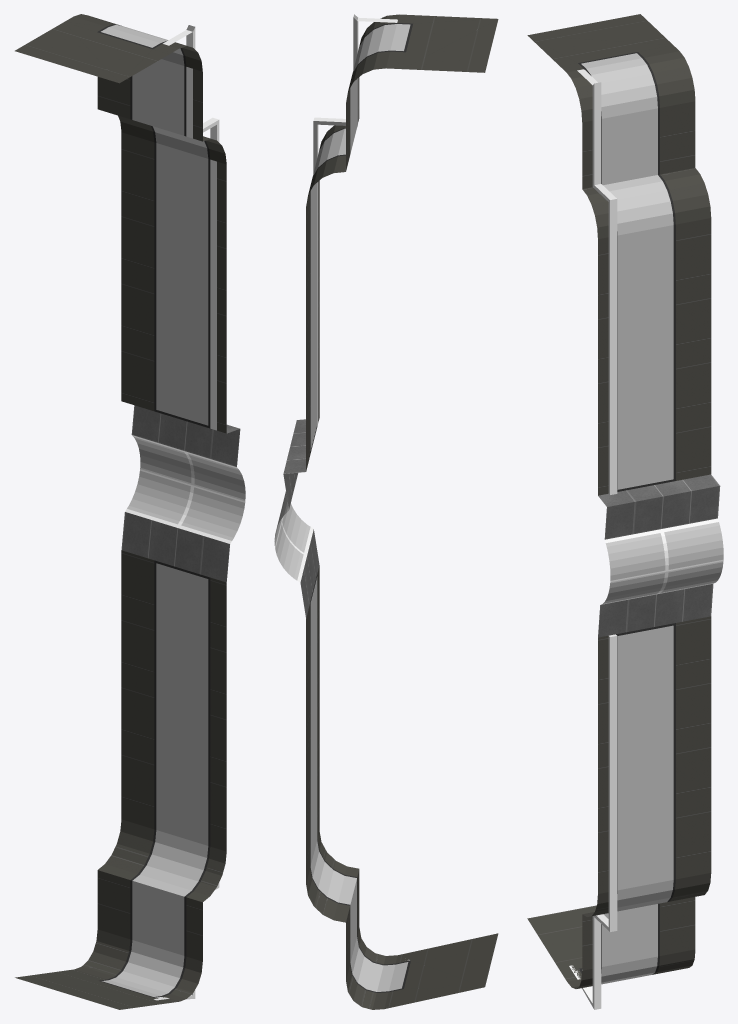
File: 우측건물1외벽.fbx
The picture shows the model from 3 angles, left to right: view 1: azimuth 30°, elevation 25°; view 2: azimuth 150°, elevation 25°; view 3: azimuth 270°, elevation 25°; orthographic projection. The views are drawn at different scales.
Parts seen in each view (by area): view 1: 단층_허브빌딩_2_1, 창문_원형_7_3, 창문_원형_8_2, 창문_원형_9_2, 단층_허브빌딩_1_2, Group_67066; view 2: 단층_허브빌딩_2_1, 창문_원형_7_3, 창문_원형_8_2, 창문_원형_9_2, 단층_허브빌딩_1_2, Group_67066; view 3: 단층_허브빌딩_2_1, 창문_원형_8_2, 창문_원형_7_3, 단층_허브빌딩_1_2, 창문_원형_9_2, Group_67066, Group_67068.
Boxes of the visible parts, <box> form: 단층_허브빌딩_2_1: <box>15,14,226,1009</box>; 창문_원형_7_3: <box>99,560,210,997</box>; 창문_원형_8_2: <box>97,24,210,428</box>; 창문_원형_9_2: <box>125,435,245,543</box>; 단층_허브빌딩_1_2: <box>121,405,240,582</box>; Group_67066: <box>163,25,219,430</box>; 단층_허브빌딩_2_1: <box>306,14,498,1009</box>; 창문_원형_7_3: <box>310,575,410,992</box>; 창문_원형_8_2: <box>310,23,412,453</box>; 창문_원형_9_2: <box>274,491,313,582</box>; 단층_허브빌딩_1_2: <box>283,419,319,618</box>; Group_67066: <box>313,14,397,425</box>; 단층_허브빌딩_2_1: <box>527,14,711,988</box>; 창문_원형_8_2: <box>578,52,675,491</box>; 창문_원형_7_3: <box>579,623,675,984</box>; 단층_허브빌딩_1_2: <box>598,474,720,637</box>; 창문_원형_9_2: <box>601,518,723,604</box>; Group_67066: <box>577,69,617,494</box>; Group_67068: <box>569,634,617,1009</box>.
Size of the model in its own units: 612 by 2638 by 507.
